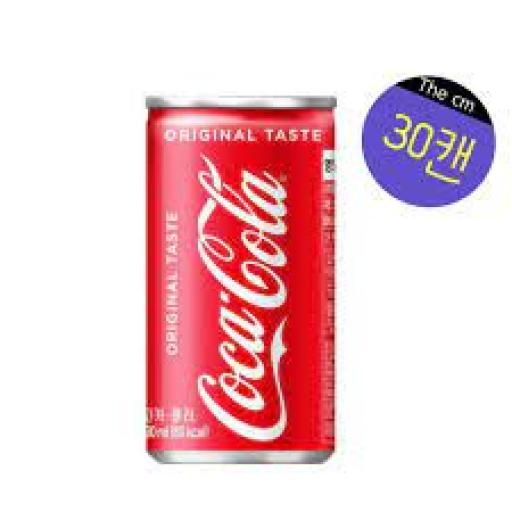Coca: (139, 85, 343, 471)
